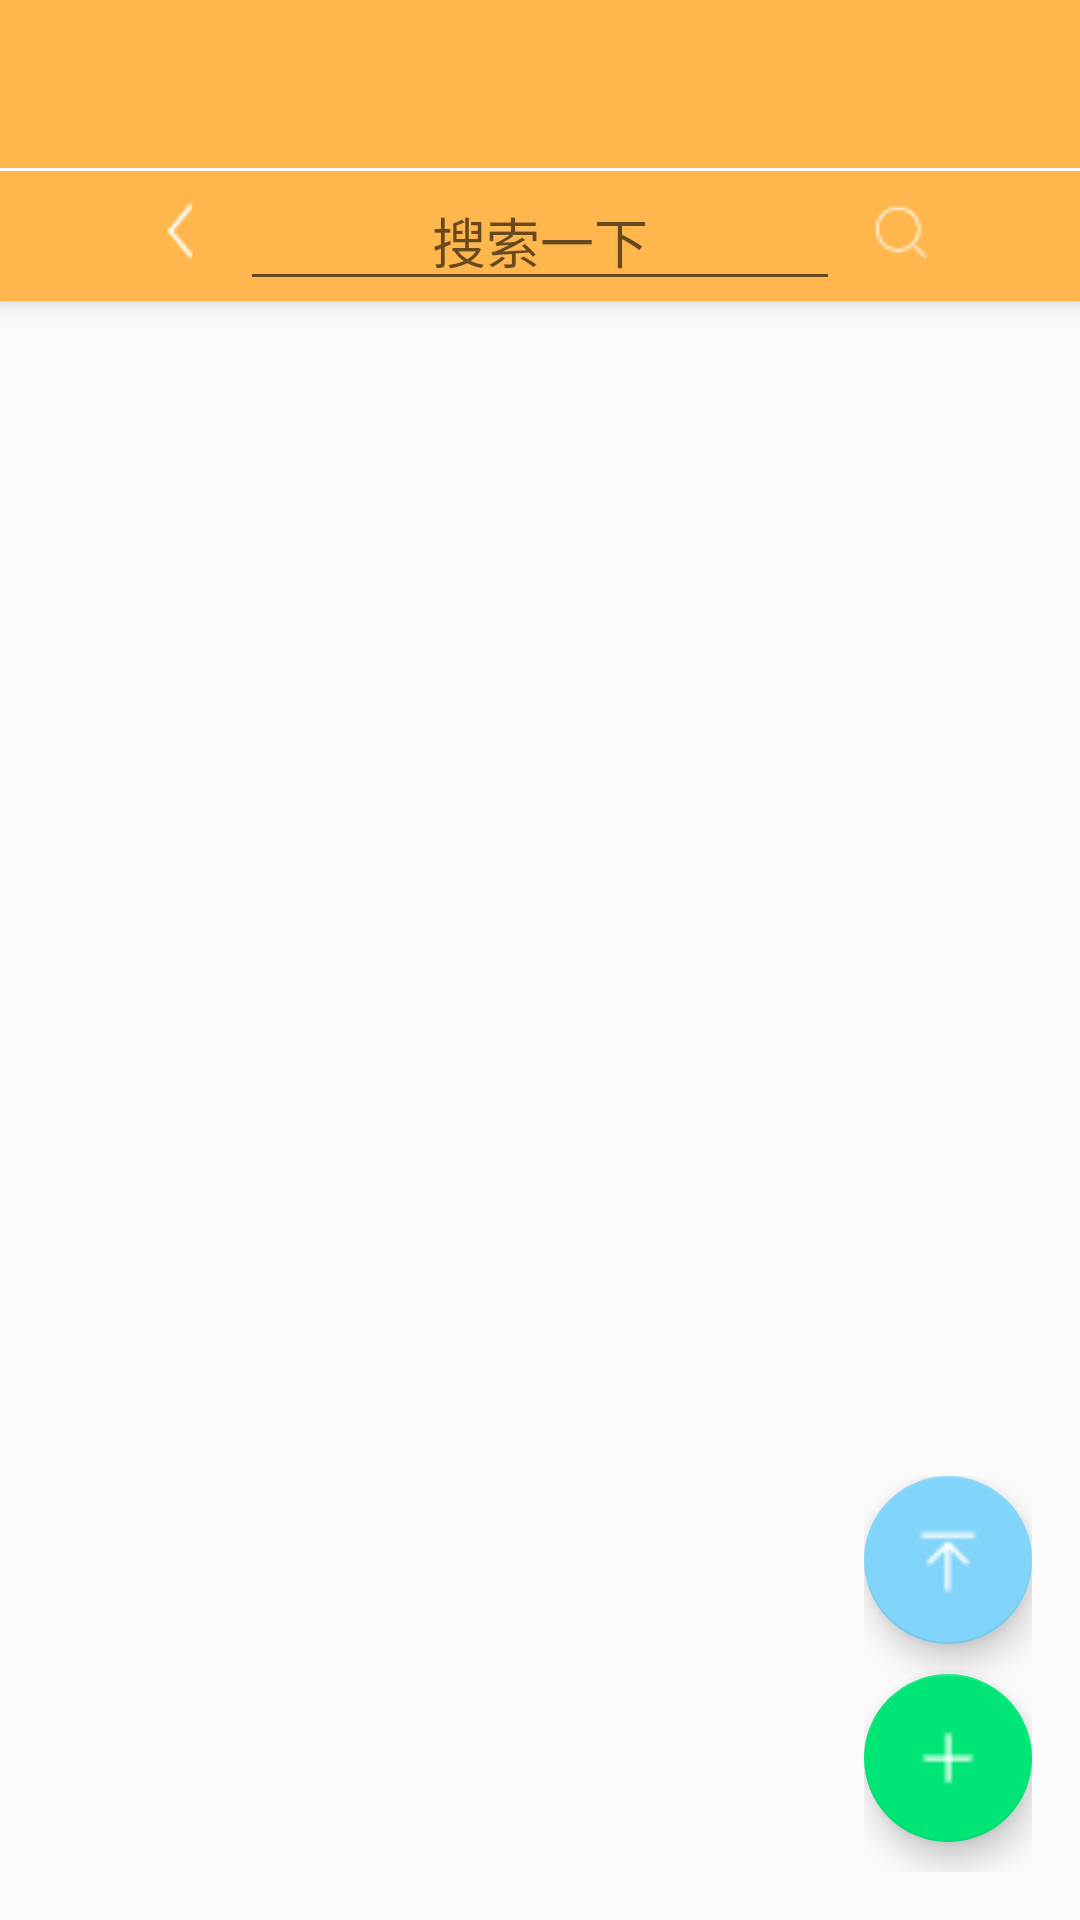

Icons on this 1080w x 1920h Android screen, each with its box as [x1=x1, y1=y1, x2=x2, y2=y2]:
add: [x1=864, y1=1674, x2=1032, y2=1842]
back: [x1=167, y1=203, x2=193, y2=259]
search: [x1=875, y1=206, x2=928, y2=259]
top: [x1=864, y1=1476, x2=1032, y2=1644]
